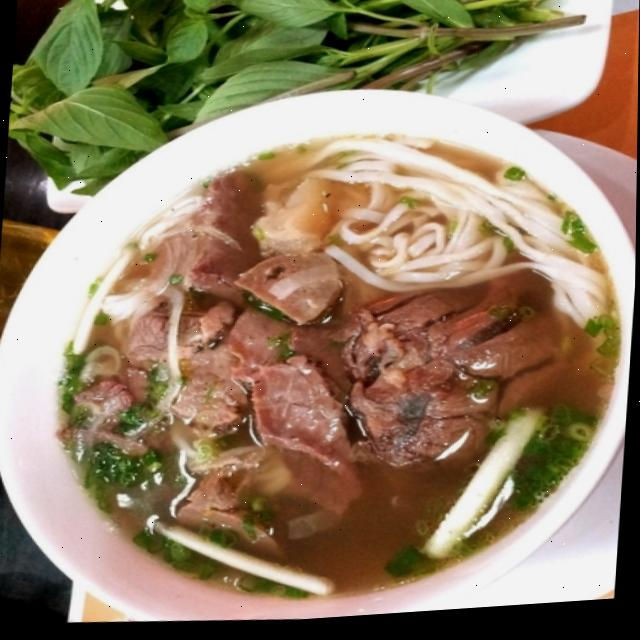面条主食: (0, 76, 639, 640)
